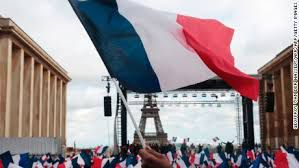French Flag: (68, 1, 261, 101), (274, 151, 299, 166), (60, 158, 82, 167), (191, 153, 204, 164)
